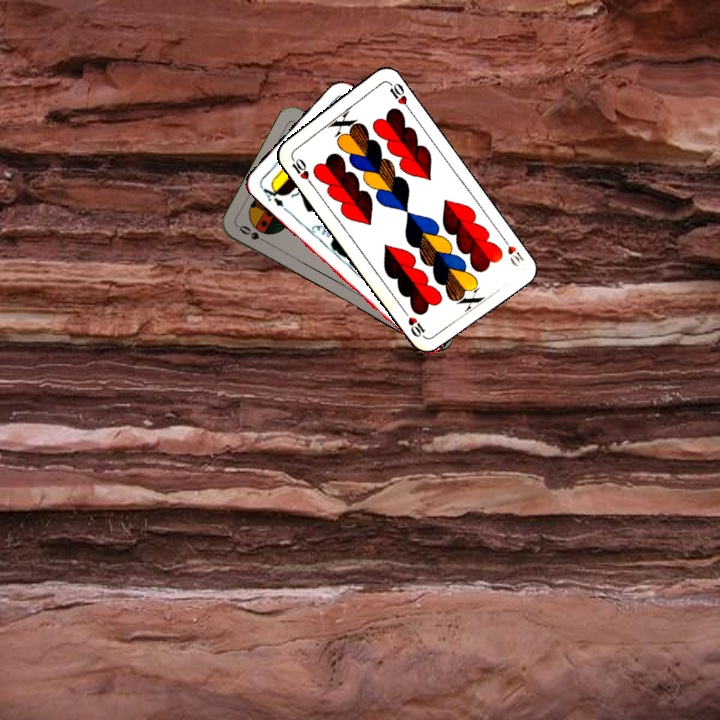EA: (256, 180, 286, 210)
H10: (497, 232, 527, 269), (287, 151, 315, 187)
SO: (234, 221, 272, 247)
